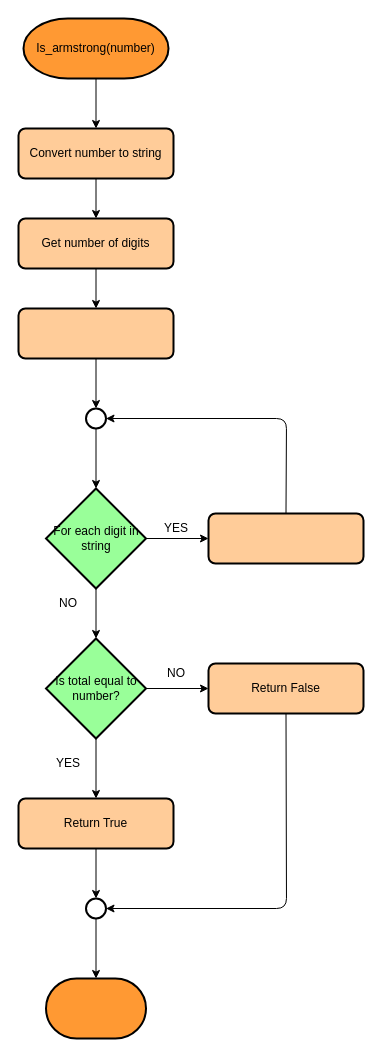
Some shapes in this 381 by 1056 pixel diagram are drawn without their labels. Each missing label, with the centre of its shape:
"Add digitnum_digit to total" belongs at (285,538).
"Initiakize total to 0" belongs at (95,333).
"Stop" belongs at (95,1008).
